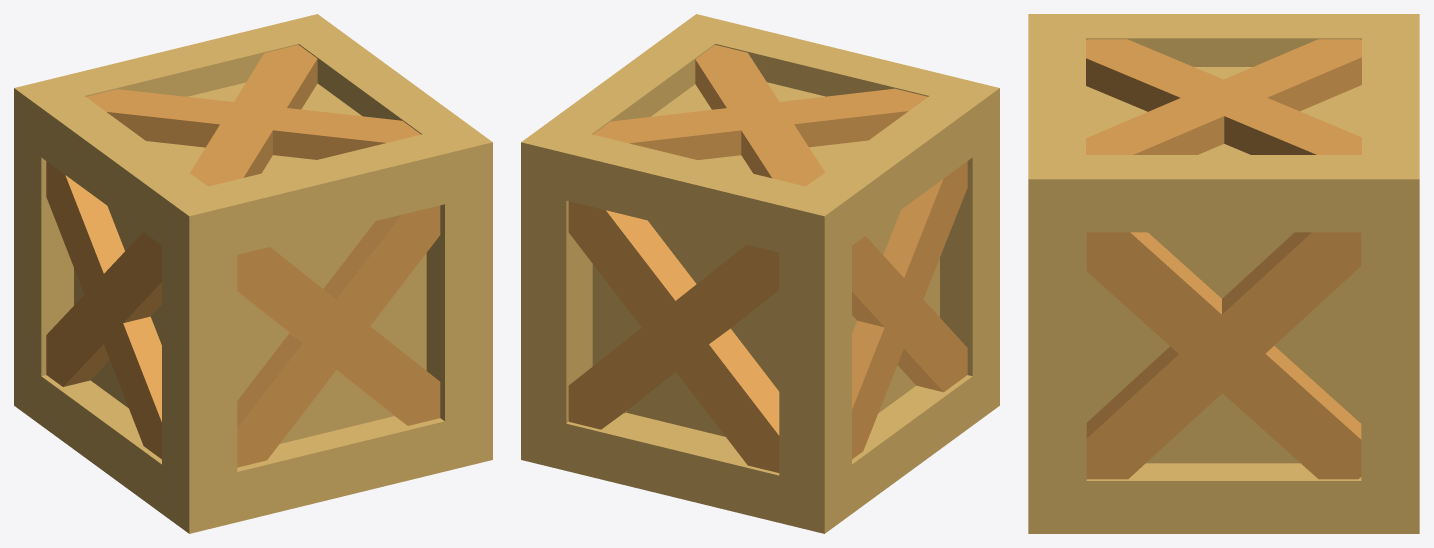
The model's file is Crate.fbx.
The picture shows the model from 3 angles, left to right: view 1: azimuth 30°, elevation 25°; view 2: azimuth 150°, elevation 25°; view 3: azimuth 270°, elevation 25°; orthographic projection. The views are drawn at different scales.
Parts seen in each view (by area): view 1: Cube; view 2: Cube; view 3: Cube.
Part boxes in pixels (x1,y1,x2,y2): Cube: [14, 14, 492, 533]; Cube: [521, 14, 999, 533]; Cube: [1028, 14, 1419, 533].
Size of the model in its own units: 159 by 159 by 159.
